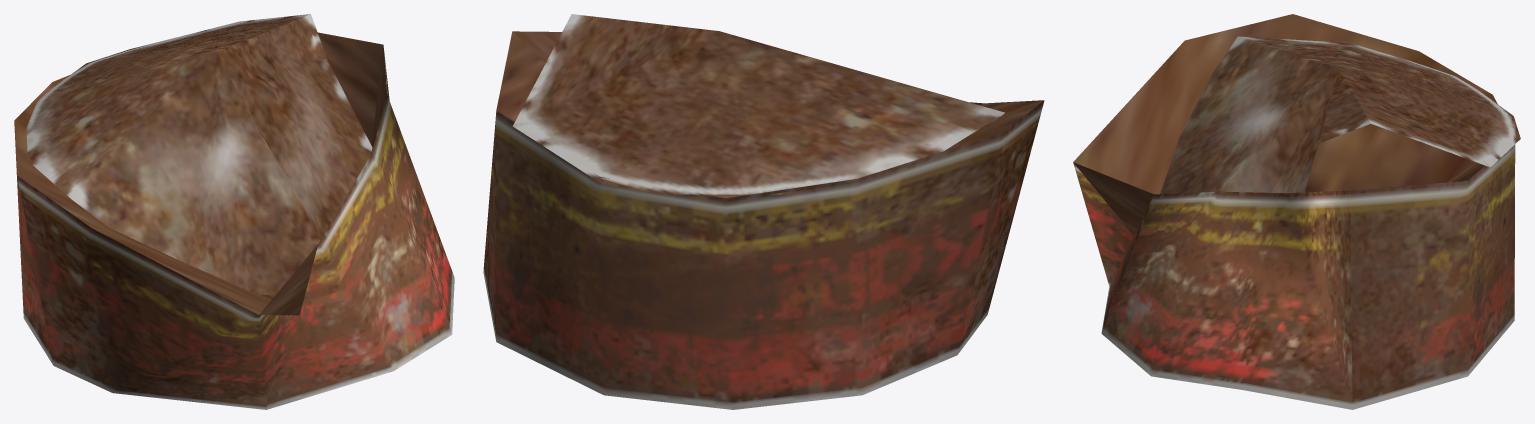
Rendered from SM_TrashCan_01_C.fbx.
The picture shows the model from 3 angles, left to right: view 1: azimuth 30°, elevation 25°; view 2: azimuth 150°, elevation 25°; view 3: azimuth 270°, elevation 25°; orthographic projection. The views are drawn at different scales.
Parts seen in each view (by area): view 1: SM_TrashCan_01_C; view 2: SM_TrashCan_01_C; view 3: SM_TrashCan_01_C.
Boxes of the visible parts, box(x1,y1,x2,y2) form: SM_TrashCan_01_C: box(14, 14, 454, 409); SM_TrashCan_01_C: box(483, 14, 1044, 409); SM_TrashCan_01_C: box(1073, 14, 1520, 409).
Size of the model in its own units: 15.94 by 15.1 by 9.23.
1 material, 1 textured.
